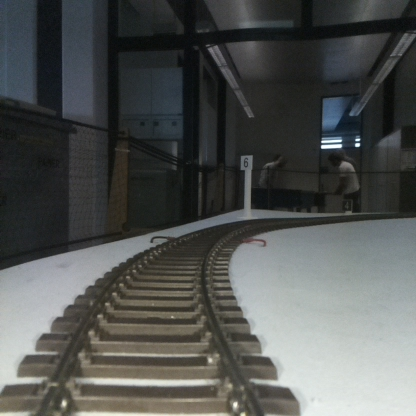white-info-6: (240, 155, 252, 214)
